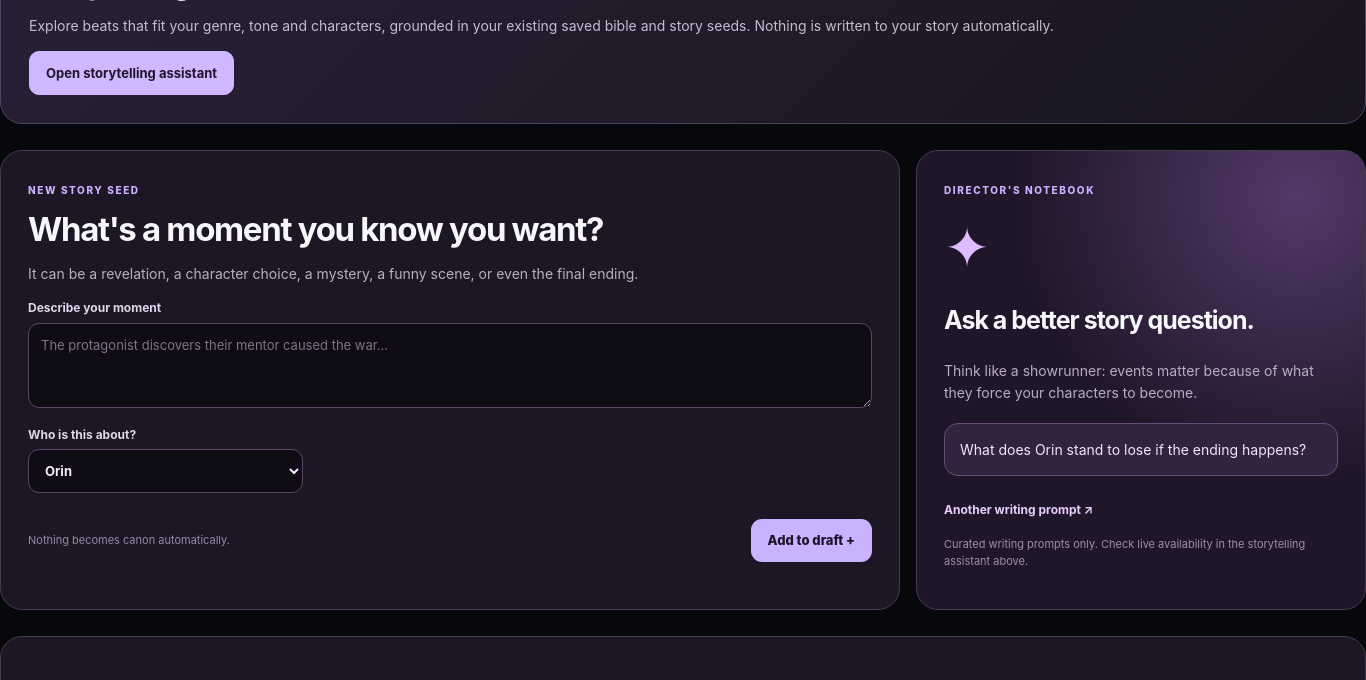
Scenario: Storytelling assistant Studio integration › marks unadded seed ideas as excluded without sending them to the assistant
This screenshot has width=1366, height=680.
(page scrolled)
expect the button "Open storytelling assistant" is shown: met, box [29,51,234,95]
Type "An unsaved secret ending" into the text box labelled "Describe your moment" at (450, 366), box [28,323,872,408]
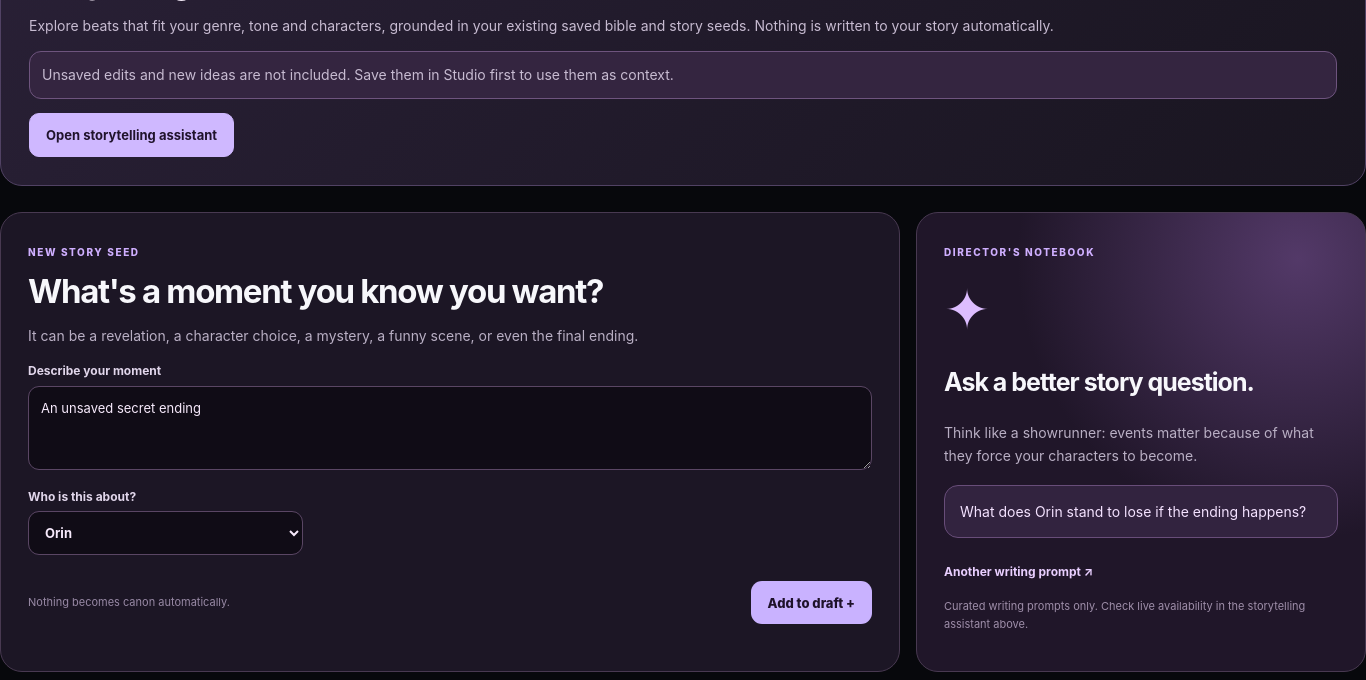
expect the text "Unsaved edits and new ideas are not included" is shown: met, box [42,66,674,83]
